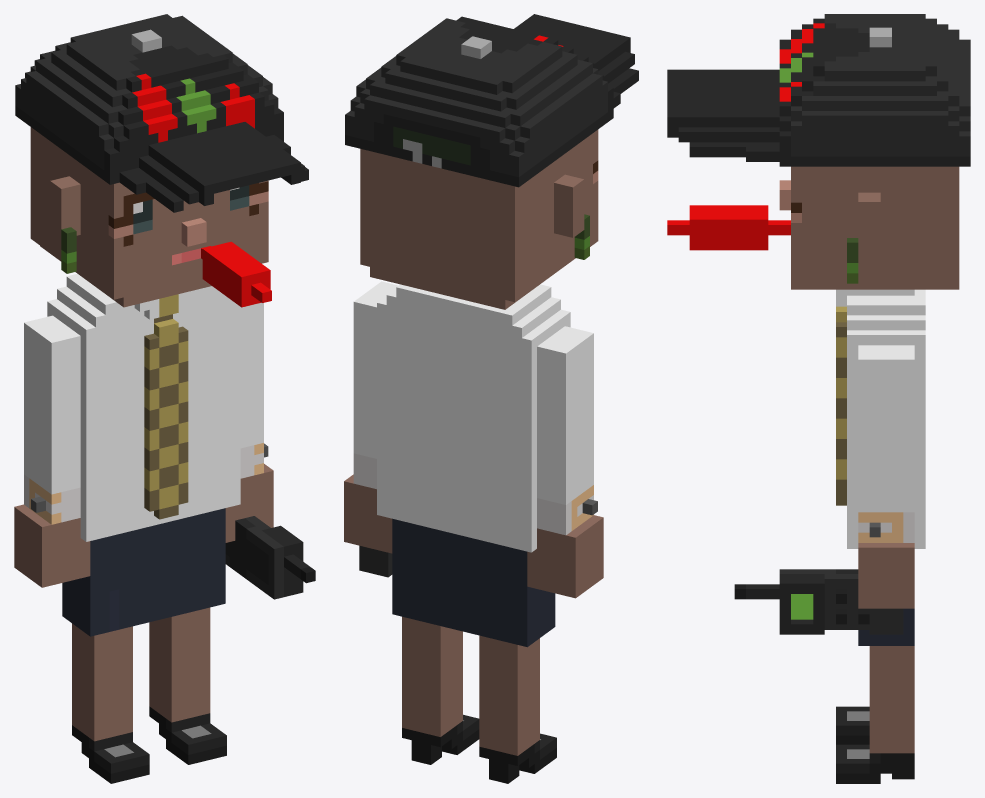
Rendered from trader.obj.
The picture shows the model from 3 angles, left to right: view 1: azimuth 30°, elevation 25°; view 2: azimuth 150°, elevation 25°; view 3: azimuth 270°, elevation 25°; orthographic projection.
Size of the model in its own units: 2.4 by 7.1 by 2.7.
